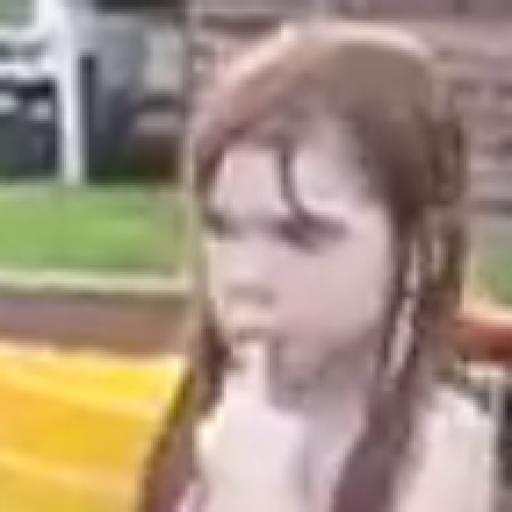Autism: (156, 18, 489, 504)
